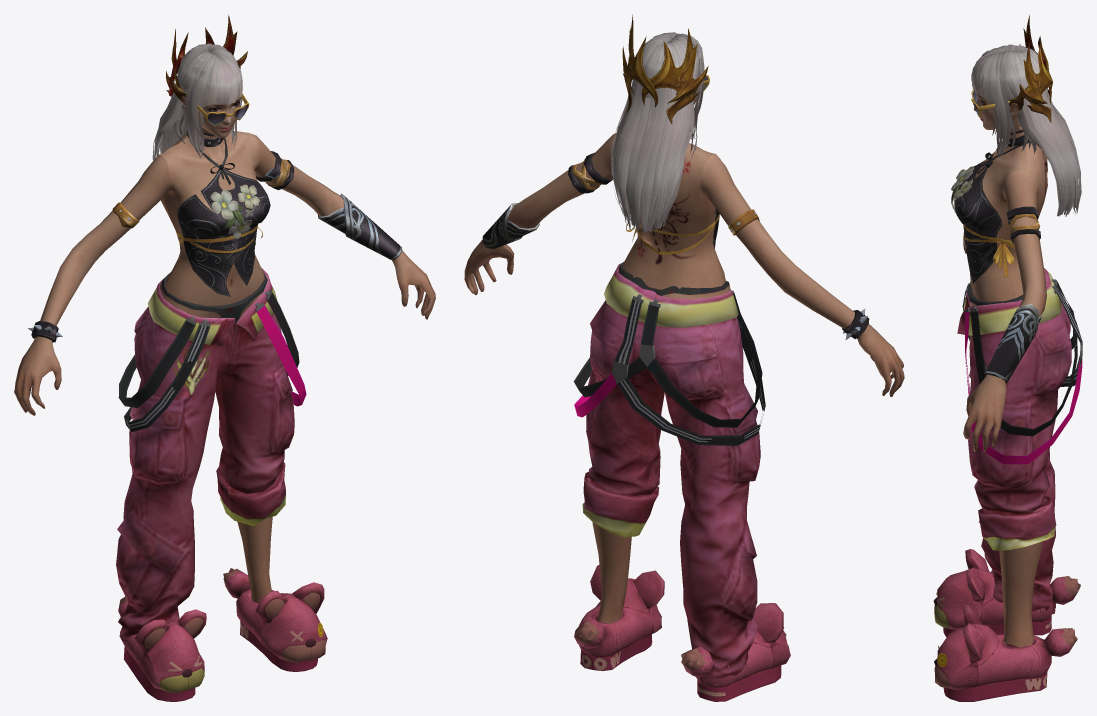
File: camy.glb
3 views of the same model, side by side, from view 1: azimuth 30°, elevation 25°; view 2: azimuth 150°, elevation 25°; view 3: azimuth 270°, elevation 25° (orthographic). The views are drawn at different scales.
Parts seen in each view (by area): view 1: camy; view 2: camy; view 3: camy.
Part boxes in pixels (x1,y1,x2,y2): camy: (14, 15, 435, 701); camy: (464, 14, 904, 701); camy: (933, 15, 1082, 701).
Size of the model in its own units: 0.6439 by 0.9407 by 0.2.
Materials: 11 (11 with a texture image).
